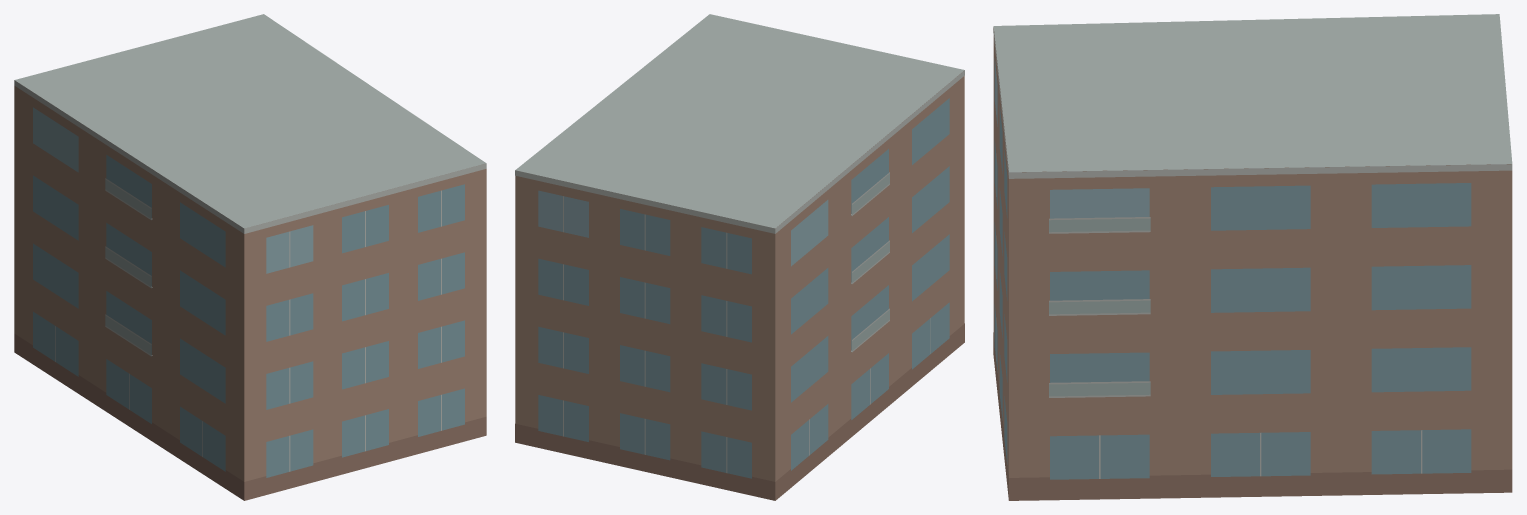
The model's file is survey-upis-32804754.glb.
The picture shows the model from 3 angles, left to right: view 1: azimuth 30°, elevation 25°; view 2: azimuth 150°, elevation 25°; view 3: azimuth 270°, elevation 25°; orthographic projection. The views are drawn at different scales.
Visible parts, largest first — view 1: survey-upis-32804754.tmp; view 2: survey-upis-32804754.tmp; view 3: survey-upis-32804754.tmp.
Part boxes in pixels (bbox=[...]): survey-upis-32804754.tmp: bbox=[14, 14, 486, 500]; survey-upis-32804754.tmp: bbox=[515, 14, 964, 500]; survey-upis-32804754.tmp: bbox=[993, 14, 1512, 500].
Size of the model in its own units: 12.62 by 12.2 by 17.47.
